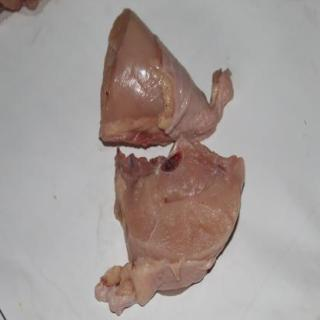Ayam: (94, 132, 246, 317), (98, 8, 236, 147)
